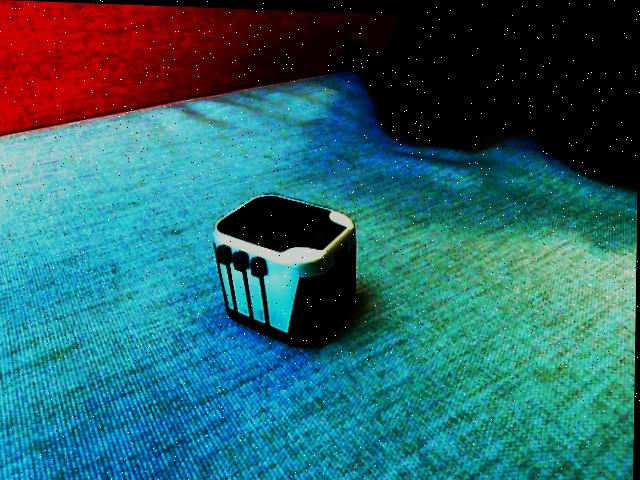adapter: (212, 189, 358, 345)
